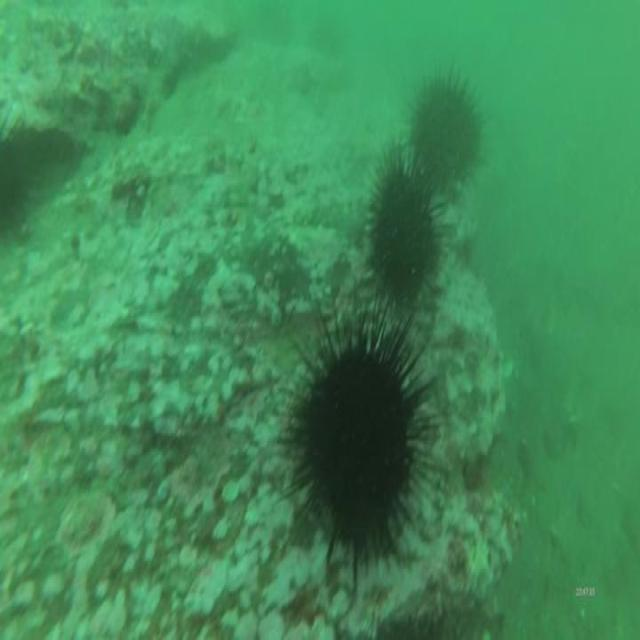echinus: (274, 289, 442, 588), (363, 136, 445, 316), (406, 61, 490, 206), (0, 120, 35, 237)
